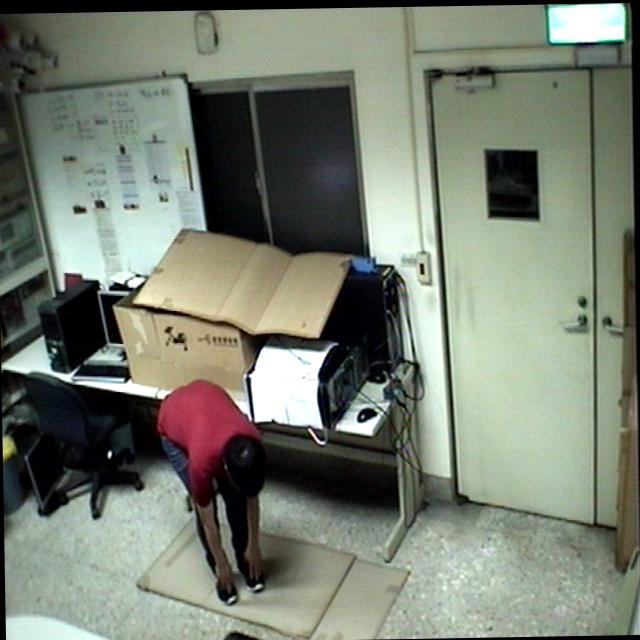bend: (151, 376, 274, 614)
